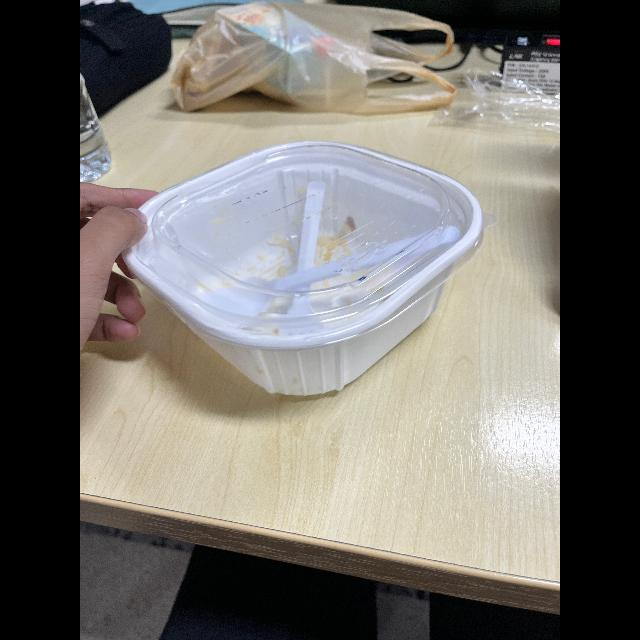plastic_box: (123, 126, 491, 394)
